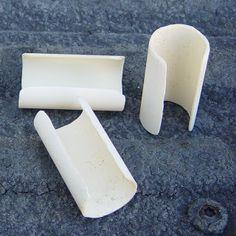PVC: (24, 93, 154, 228), (134, 16, 220, 150)
